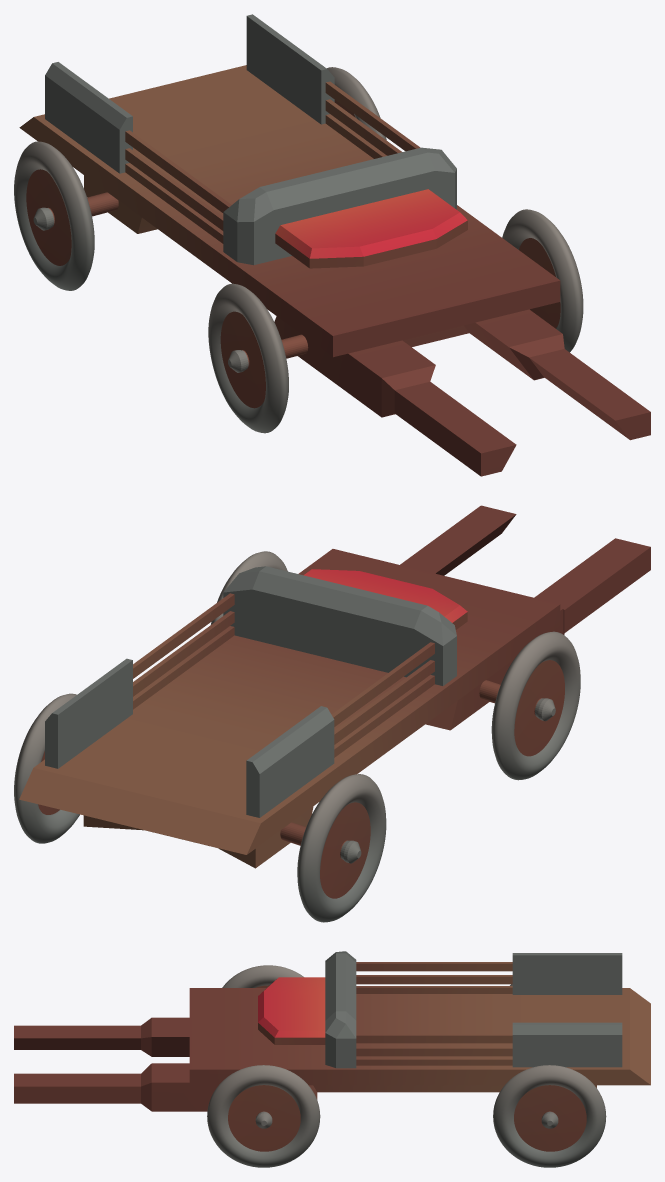
Rendered from Vill.fbx.
3 renders of one model, top to bottom at view 1: azimuth 30°, elevation 25°; view 2: azimuth 150°, elevation 25°; view 3: azimuth 270°, elevation 25°, orthographic. The views are drawn at different scales.
Parts seen in each view (by area): view 1: Base, Wheels_forward, Whells_back; view 2: Base, Whells_back, Wheels_forward; view 3: Base, Wheels_forward, Whells_back.
Part boxes in pixels (bbox=[...]): Base: bbox=[19, 14, 650, 476]; Wheels_forward: bbox=[208, 209, 583, 433]; Whells_back: bbox=[14, 67, 386, 290]; Base: bbox=[19, 505, 650, 868]; Whells_back: bbox=[14, 693, 386, 922]; Wheels_forward: bbox=[211, 551, 580, 780]; Base: bbox=[14, 951, 650, 1111]; Wheels_forward: bbox=[207, 965, 320, 1167]; Whells_back: bbox=[493, 984, 606, 1167].
Bounding box in the file's own units: 603 × 332 × 1389.
